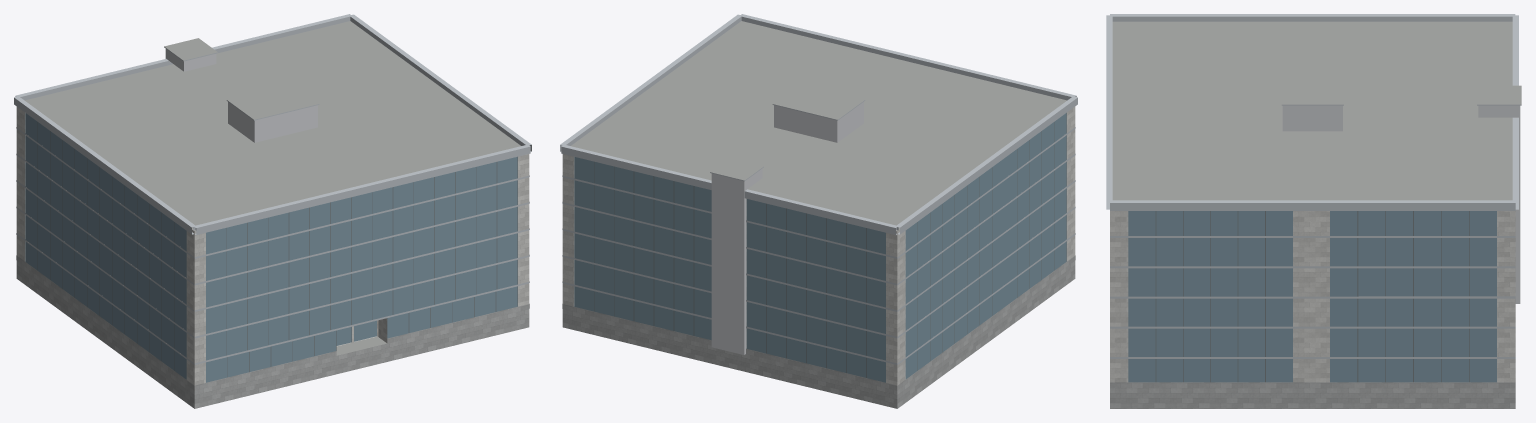
3 renders of one model, left to right at view 1: azimuth 30°, elevation 25°; view 2: azimuth 150°, elevation 25°; view 3: azimuth 270°, elevation 25°, orthographic. The views are drawn at different scales.
Parts seen in each view (by area): view 1: metaConvergenceW13__glass, metaConvergenceW13__roof, metaConvergenceW13__trim, metaConvergenceW13__base, metaConvergenceW13__wall, metaConvergenceW13__frame, metaConvergenceW13__wall2; view 2: metaConvergenceW13__glass, metaConvergenceW13__roof, metaConvergenceW13__trim, metaConvergenceW13__base, metaConvergenceW13__wall2, metaConvergenceW13__wall, metaConvergenceW13__frame; view 3: metaConvergenceW13__roof, metaConvergenceW13__glass, metaConvergenceW13__trim, metaConvergenceW13__wall, metaConvergenceW13__base, metaConvergenceW13__wall2, metaConvergenceW13__frame.
Part boxes in pixels (<box>): metaConvergenceW13__glass: <box>25,113,517,382</box>; metaConvergenceW13__roof: <box>25,21,520,355</box>; metaConvergenceW13__trim: <box>14,14,531,364</box>; metaConvergenceW13__base: <box>16,255,529,408</box>; metaConvergenceW13__wall: <box>16,107,529,389</box>; metaConvergenceW13__frame: <box>37,122,497,377</box>; metaConvergenceW13__wall2: <box>165,49,317,142</box>; metaConvergenceW13__glass: <box>574,113,1066,382</box>; metaConvergenceW13__roof: <box>571,21,1066,231</box>; metaConvergenceW13__trim: <box>560,14,1077,364</box>; metaConvergenceW13__base: <box>562,255,1075,408</box>; metaConvergenceW13__wall2: <box>711,102,863,354</box>; metaConvergenceW13__wall: <box>562,106,1075,390</box>; metaConvergenceW13__frame: <box>594,122,1054,377</box>; metaConvergenceW13__roof: <box>1112,21,1521,200</box>; metaConvergenceW13__glass: <box>1128,211,1496,382</box>; metaConvergenceW13__trim: <box>1106,14,1521,358</box>; metaConvergenceW13__wall: <box>1110,211,1515,382</box>; metaConvergenceW13__base: <box>1110,382,1515,408</box>; metaConvergenceW13__wall2: <box>1282,105,1520,303</box>; metaConvergenceW13__frame: <box>1155,211,1469,382</box>.
Bounding box in the file's own units: 48.3 × 27.3 × 44.81.
8 materials, 2 textured.
